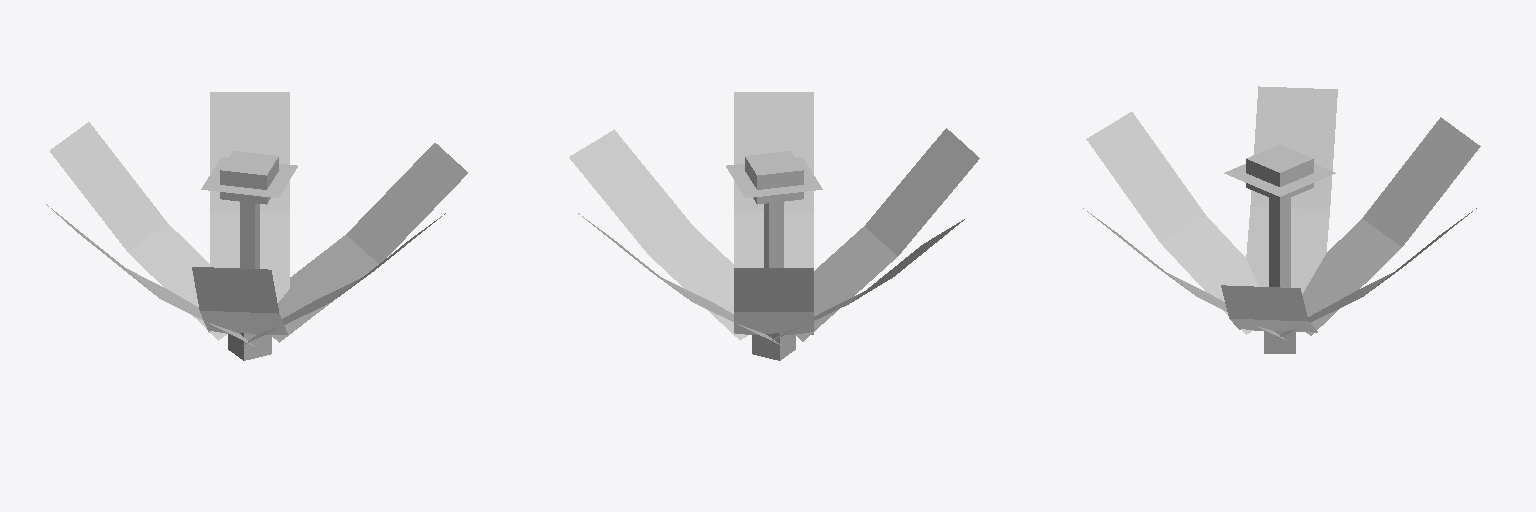
File: rubber_dandelion_3.obj
The picture shows the model from 3 angles: view 1: azimuth 30°, elevation 25°; view 2: azimuth 150°, elevation 25°; view 3: azimuth 270°, elevation 25°; orthographic projection.
Parts seen in each view (by area): view 1: leafSeg1NW, leafSeg1NE, leafSeg1E, leafSeg2E, leafSeg2NE, leafSeg1SW, leafSeg2NW, flower2, leafSeg2SW, stem2, petals2, stemBase (+2 smaller); view 2: leafSeg1E, leafSeg1SE, leafSeg1SW, leafSeg2E, leafSeg2SW, leafSeg1NW, leafSeg2SE, flower2, leafSeg2NW, stem2, petals2, stemBase (+2 smaller); view 3: leafSeg1SW, leafSeg1W, leafSeg1NW, leafSeg2NW, leafSeg2SW, leafSeg2W, leafSeg1E, flower2, stem2, petals2, leafSeg2E, stemBase (+1 smaller).
Boxes of the visible parts, x1,y1,x2,y2 form: leafSeg1NW: [50, 122, 166, 251]; leafSeg1NE: [210, 92, 289, 212]; leafSeg1E: [346, 143, 467, 263]; leafSeg2E: [271, 235, 378, 342]; leafSeg2NE: [210, 213, 289, 302]; leafSeg1SW: [192, 267, 278, 313]; leafSeg2NW: [128, 223, 226, 340]; flower2: [220, 151, 278, 204]; leafSeg2SW: [200, 311, 287, 334]; stem2: [240, 202, 259, 268]; petals2: [201, 157, 297, 197]; stemBase: [228, 333, 271, 360]; leafSeg1E: [569, 129, 694, 254]; leafSeg1SE: [734, 92, 813, 212]; leafSeg1SW: [865, 128, 979, 255]; leafSeg2E: [649, 228, 747, 339]; leafSeg2SW: [795, 226, 897, 341]; leafSeg1NW: [734, 268, 813, 311]; leafSeg2SE: [734, 213, 813, 267]; flower2: [745, 151, 803, 204]; leafSeg2NW: [734, 312, 813, 334]; stem2: [764, 202, 783, 267]; petals2: [726, 157, 822, 197]; stemBase: [752, 333, 795, 360]; leafSeg1SW: [1086, 112, 1205, 242]; leafSeg1W: [1250, 86, 1337, 209]; leafSeg1NW: [1363, 117, 1480, 246]; leafSeg2NW: [1302, 218, 1401, 335]; leafSeg2SW: [1161, 216, 1258, 334]; leafSeg2W: [1246, 207, 1329, 293]; leafSeg1E: [1221, 285, 1308, 321]; flower2: [1246, 144, 1313, 201]; stem2: [1269, 198, 1290, 287]; petals2: [1224, 164, 1335, 196]; leafSeg2E: [1230, 319, 1317, 332]; stemBase: [1264, 331, 1295, 353].
Bounding box in the file's own units: 1.71 × 0.8125 × 1.57.